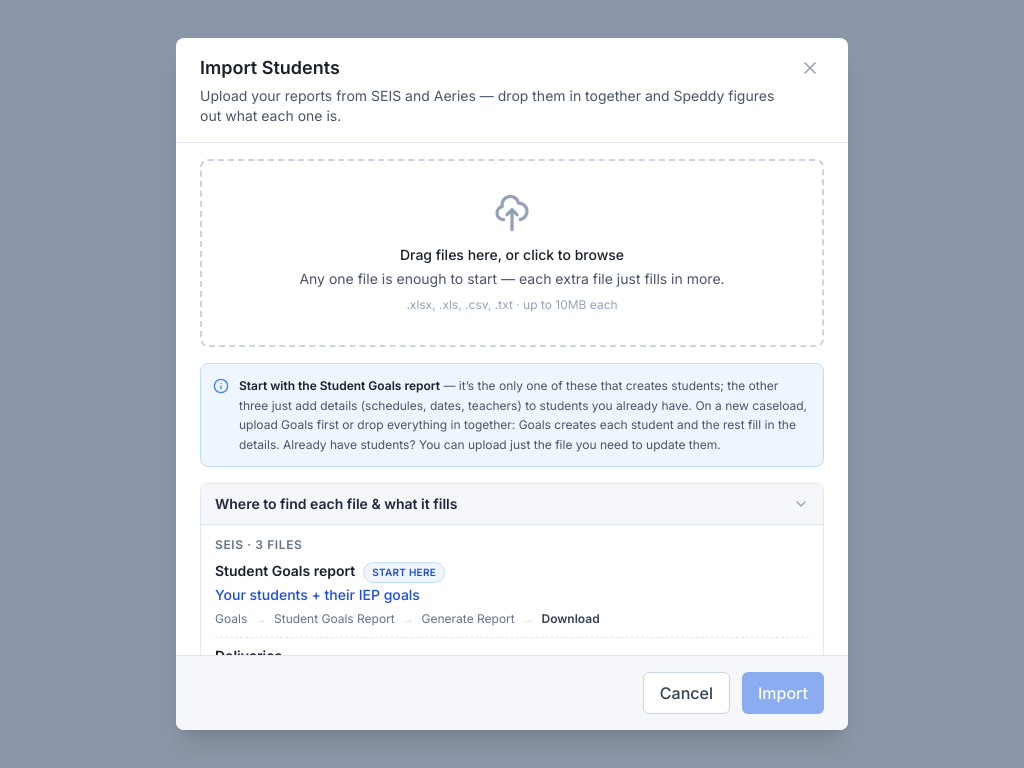
StudentImportModal (SPE-231) › shows the goals-first rule and the SEIS/Aeries file guide, which collapses
Expected: the text "Start with the Student Goals report" is shown, [239,378,440,393]
Expected: the text "SEIS · 3 files" is shown, [215,537,302,552]
Click the button "Where to find each file & what it fills" at (336, 504), box [201,484,823,524]
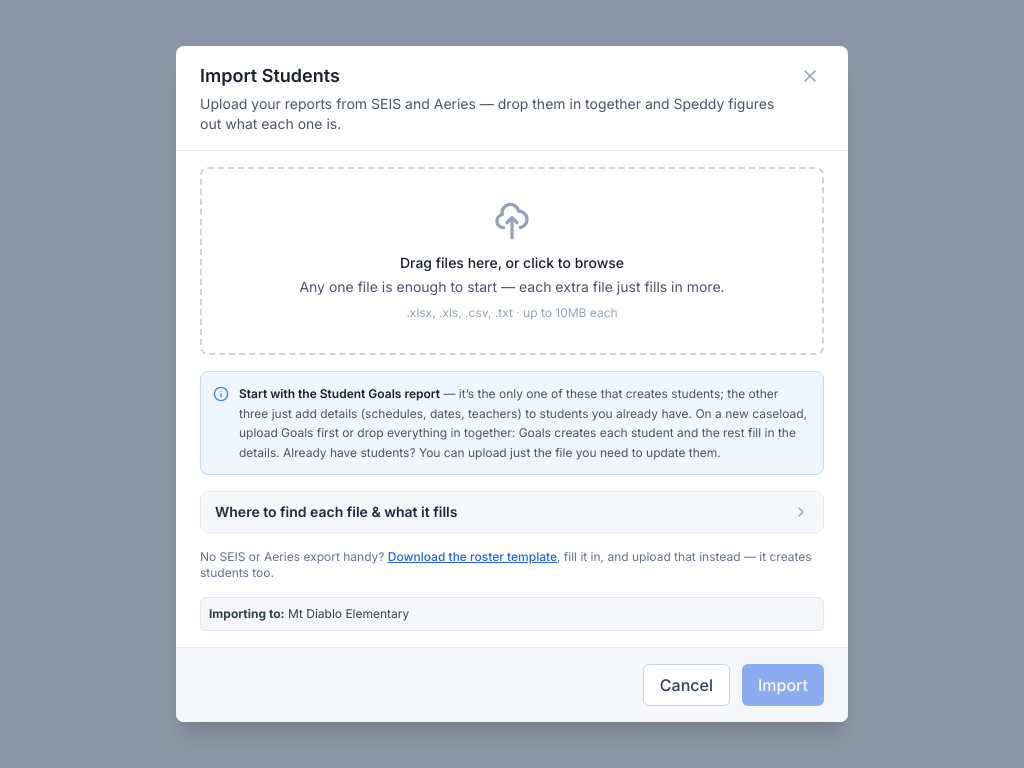
Expected: the button "Where to find each file & what it fills" is collapsed, [201,492,823,532]
Expected: the text "3 files" is gone
